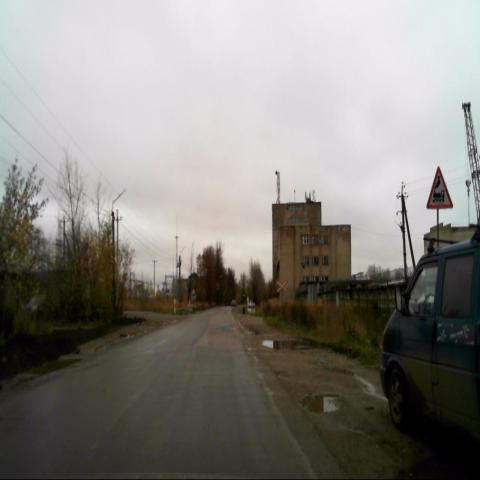1_2: (426, 165, 454, 210)
